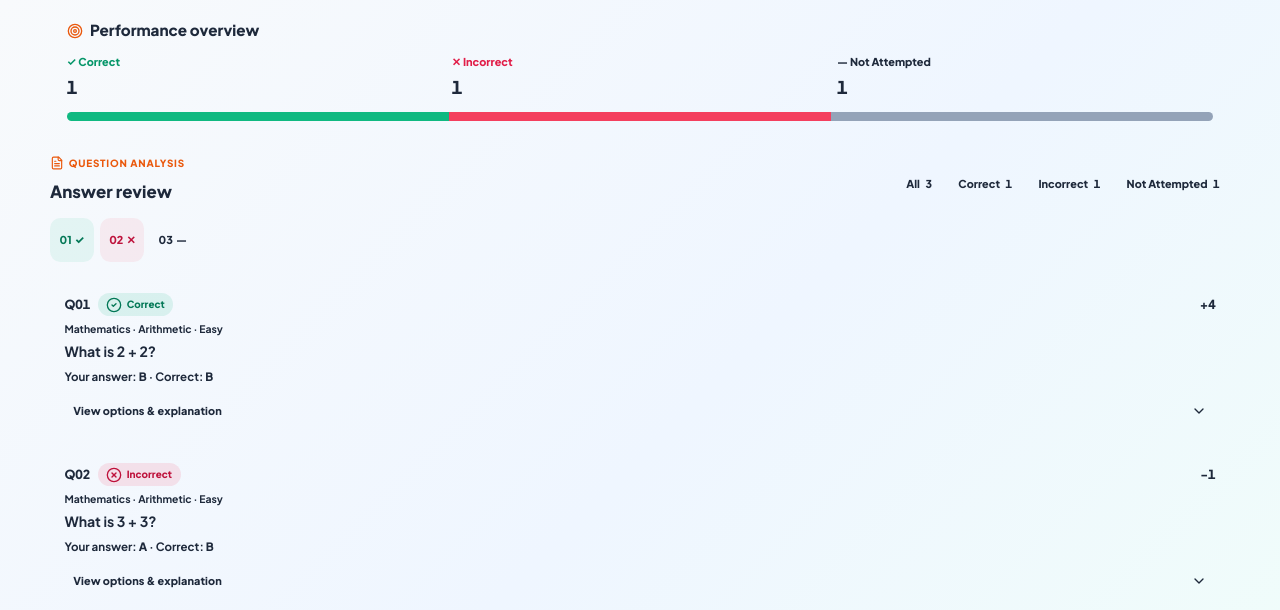
Test: ExamResultReport › exposes aria-expanded on full question card disclosure controls
The width and height of the screenshot is (1280, 610).
(page scrolled)
Click the button named "view options": (640, 360) [50,281,1230,440]
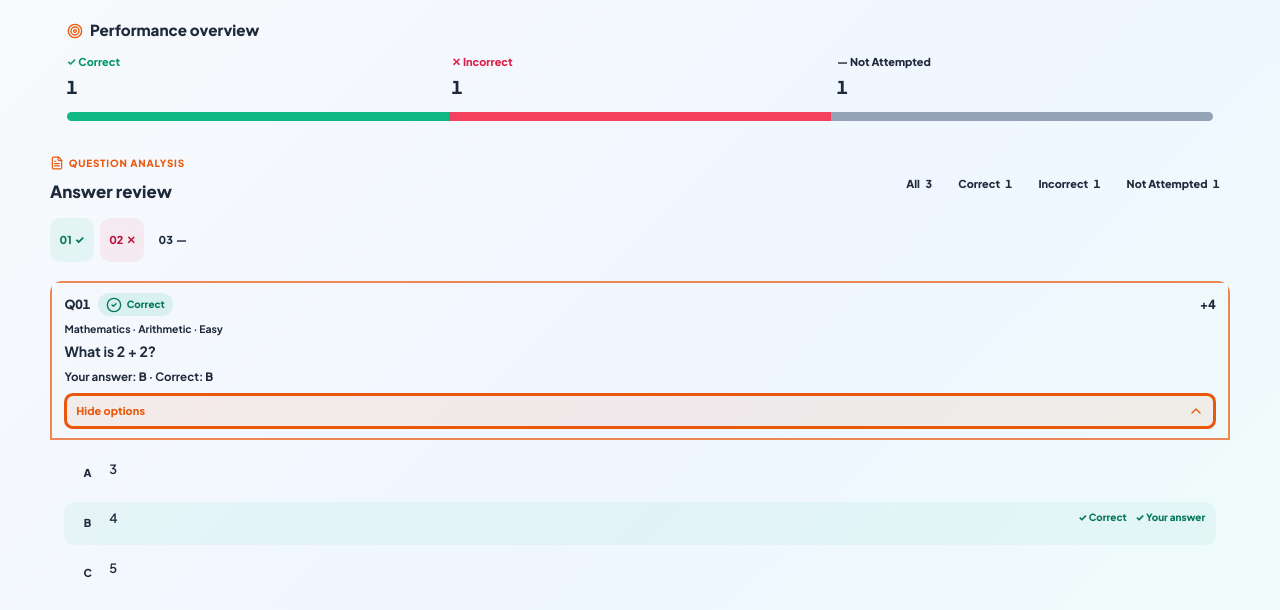
Expected: the button named "view options" is expanded, [50,281,1230,440]
